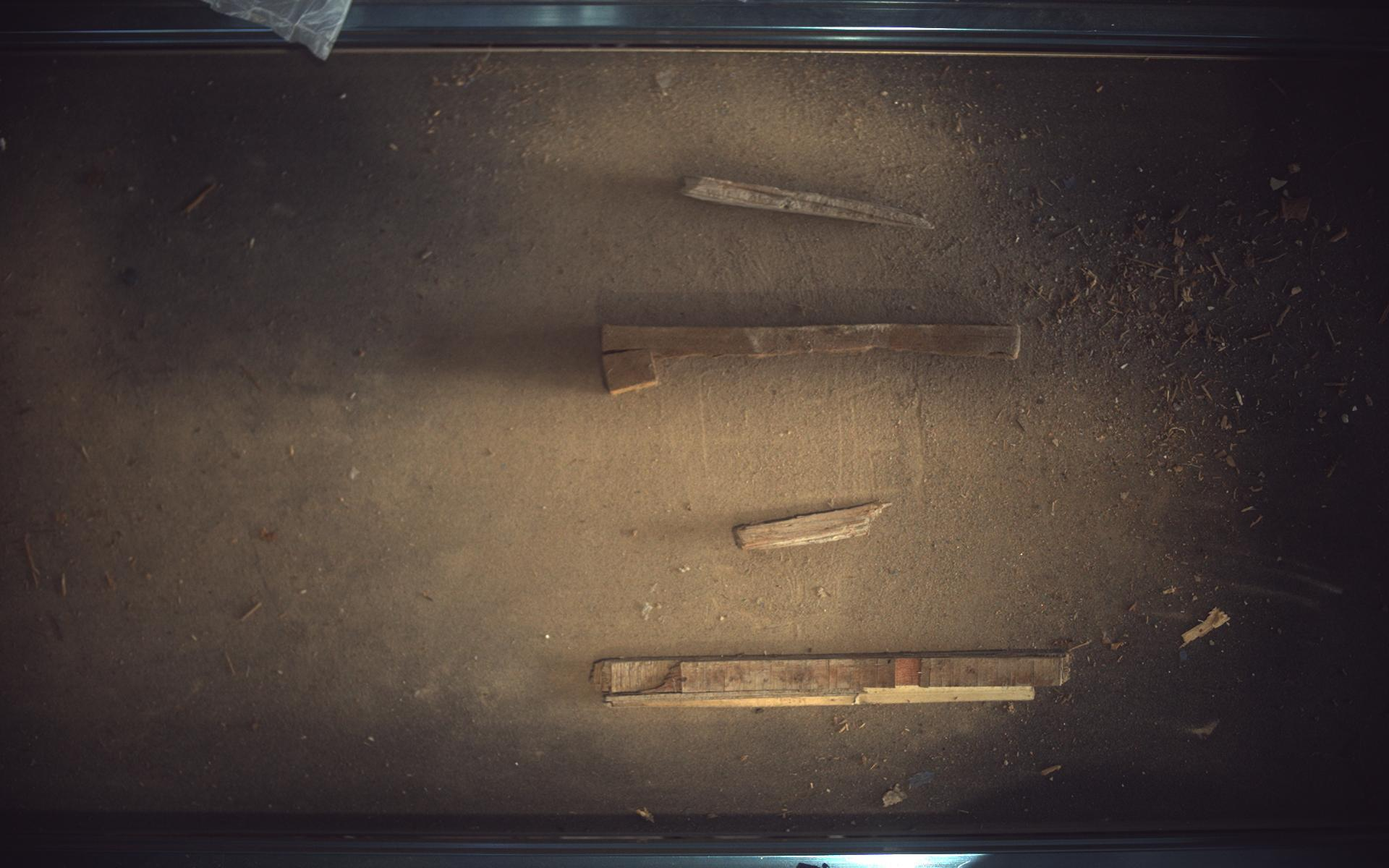wood: (603, 323, 1023, 395), (592, 653, 1071, 709), (681, 176, 935, 229), (735, 503, 891, 550)
